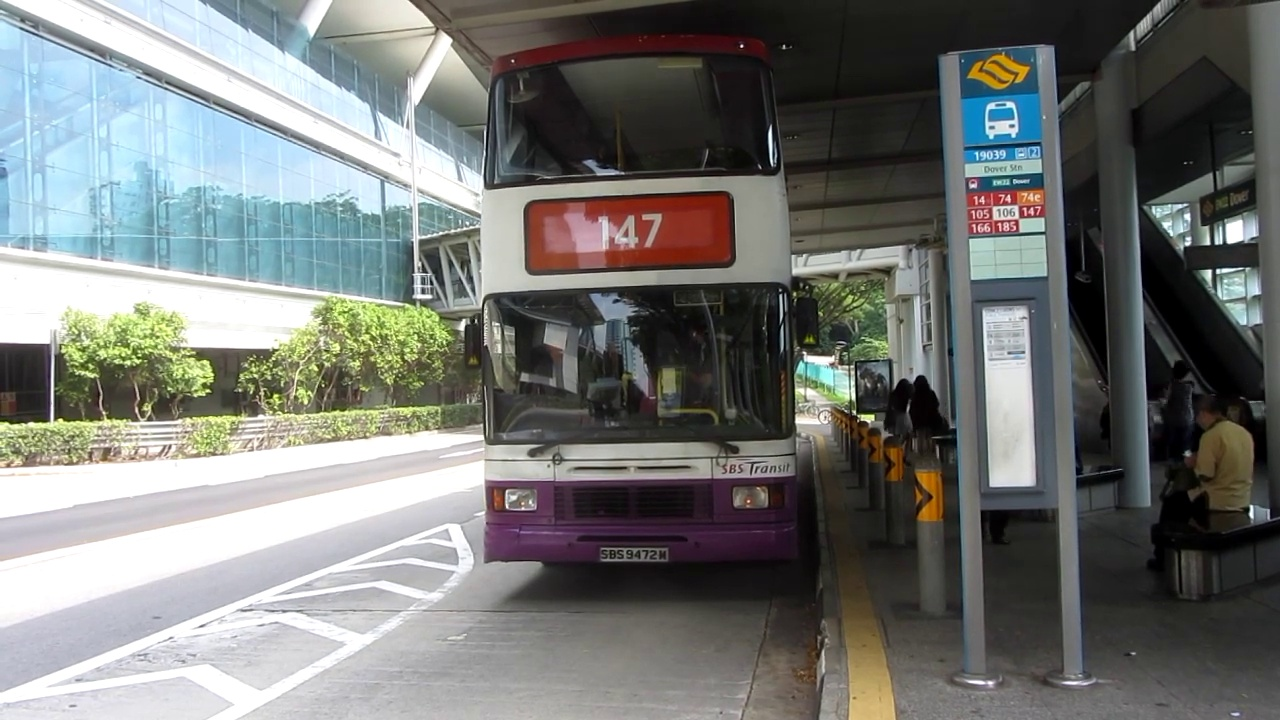bus panel: (520, 189, 739, 279)
